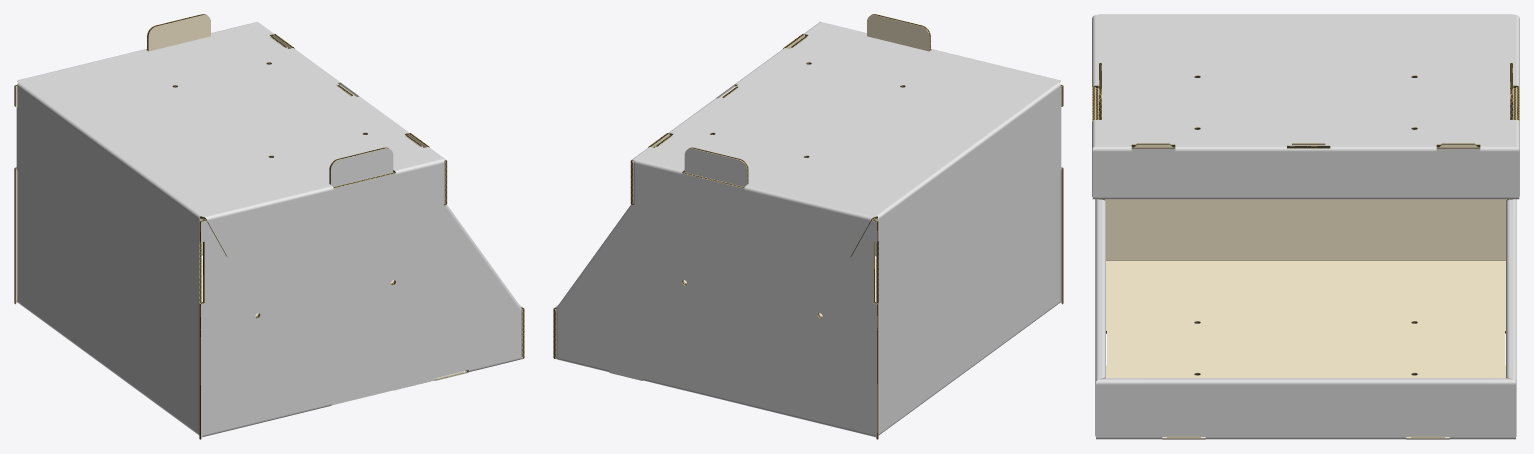
File: Troquel1g0011.gltf
The picture shows the model from 3 angles, left to right: view 1: azimuth 30°, elevation 25°; view 2: azimuth 150°, elevation 25°; view 3: azimuth 270°, elevation 25°; orthographic projection. The views are drawn at different scales.
Parts seen in each view (by area): view 1: TQ_ARD-node; view 2: TQ_ARD-node; view 3: TQ_ARD-node.
Boxes of the visible parts, x1,y1,x2,y2 form: TQ_ARD-node: (14, 14, 524, 439); TQ_ARD-node: (553, 14, 1063, 439); TQ_ARD-node: (1092, 14, 1519, 439).
Bounding box in the file's own units: 0.3891 × 0.281 × 0.3942.
Materials: 3 (1 with a texture image).
